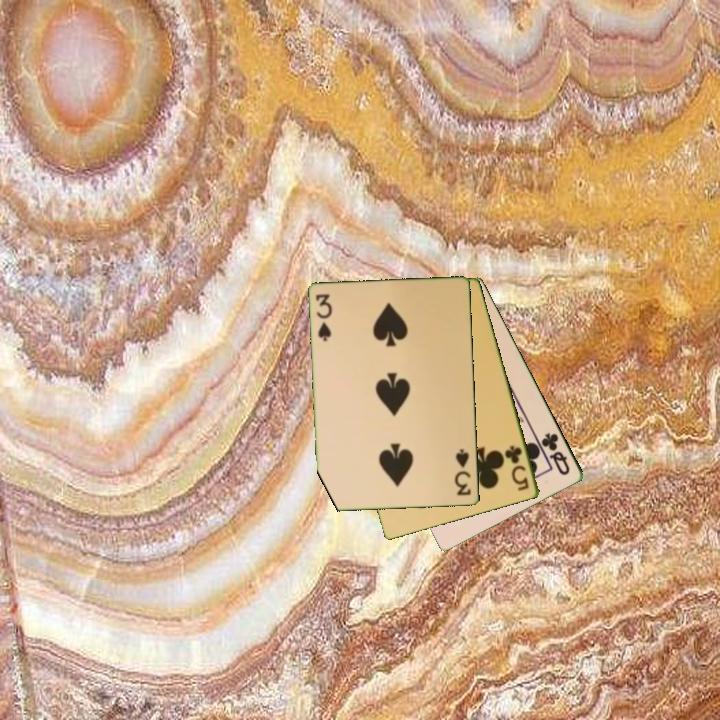3s: (312, 291, 335, 344), (452, 445, 474, 498)
5c: (501, 442, 532, 494)
Qc: (538, 429, 573, 478)
